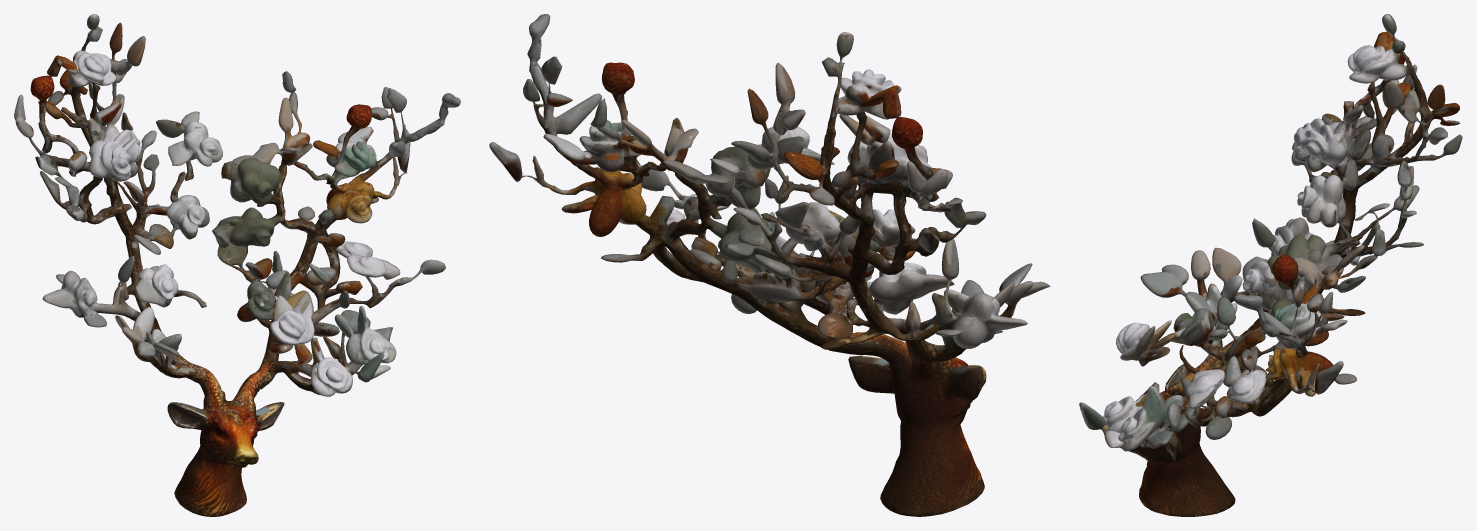
Rendered from beer (1).glb.
The picture shows the model from 3 angles, left to right: view 1: azimuth 30°, elevation 25°; view 2: azimuth 150°, elevation 25°; view 3: azimuth 270°, elevation 25°; orthographic projection. The views are drawn at different scales.
Parts seen in each view (by area): view 1: Object_4; view 2: Object_4; view 3: Object_4.
Part boxes in pixels (left/top/right/bottom): Object_4: left=14, top=14, right=460, bottom=516; Object_4: left=489, top=14, right=1050, bottom=516; Object_4: left=1079, top=14, right=1462, bottom=516.
Bounding box in the file's own units: 0.9633 × 0.988 × 0.7285.
Materials: 1 (1 with a texture image).
